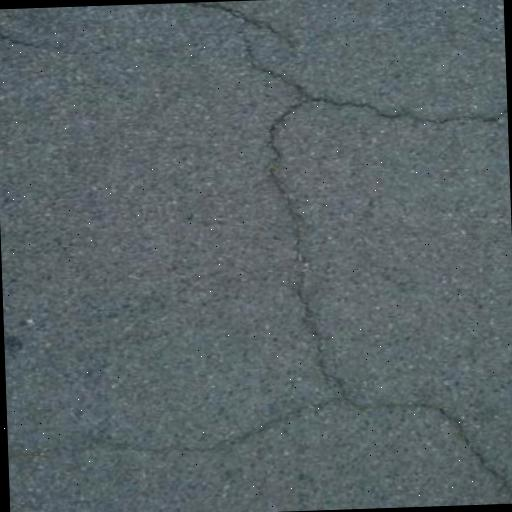spalling: (19, 378, 511, 499), (197, 3, 508, 130), (248, 98, 371, 396)
